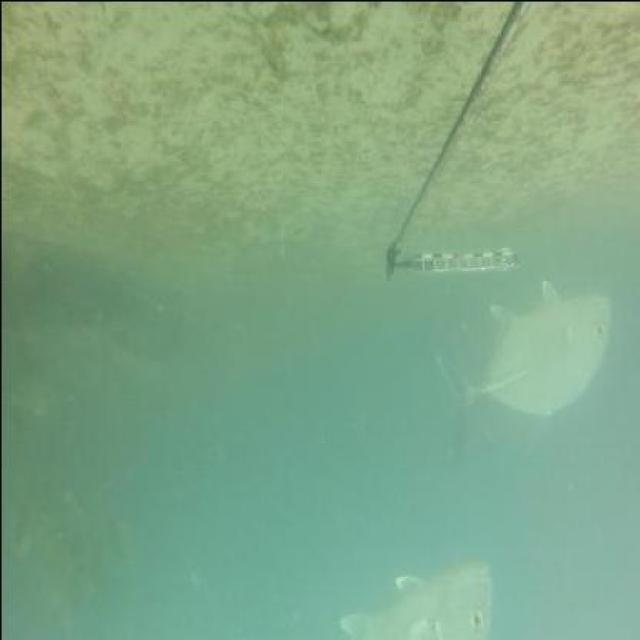Caranx: (433, 276, 613, 469), (330, 551, 496, 638)
